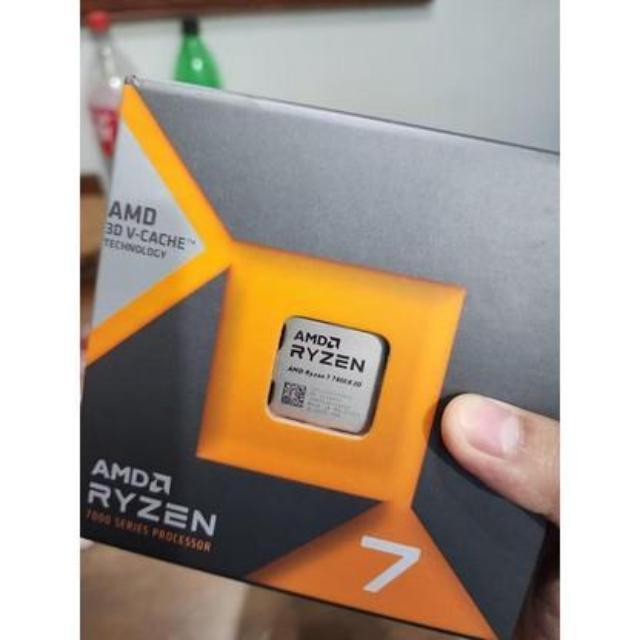CPU: (269, 314, 382, 438)
